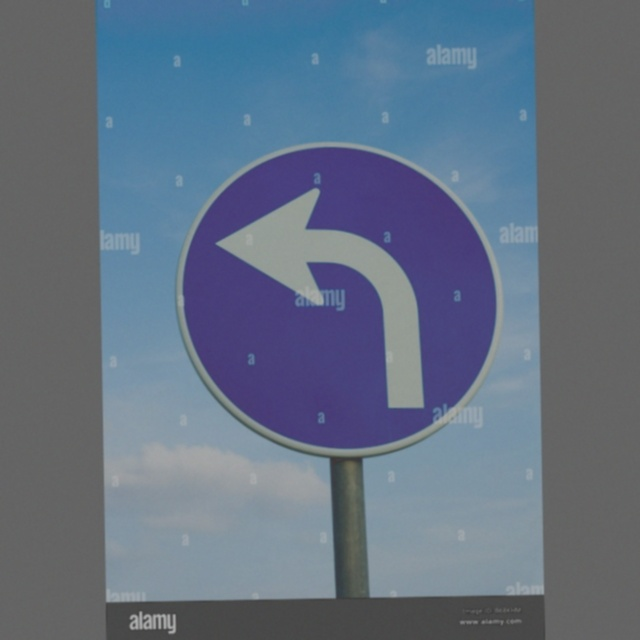Compulsory_Turn_Left_Ahead: (178, 143, 491, 462)
